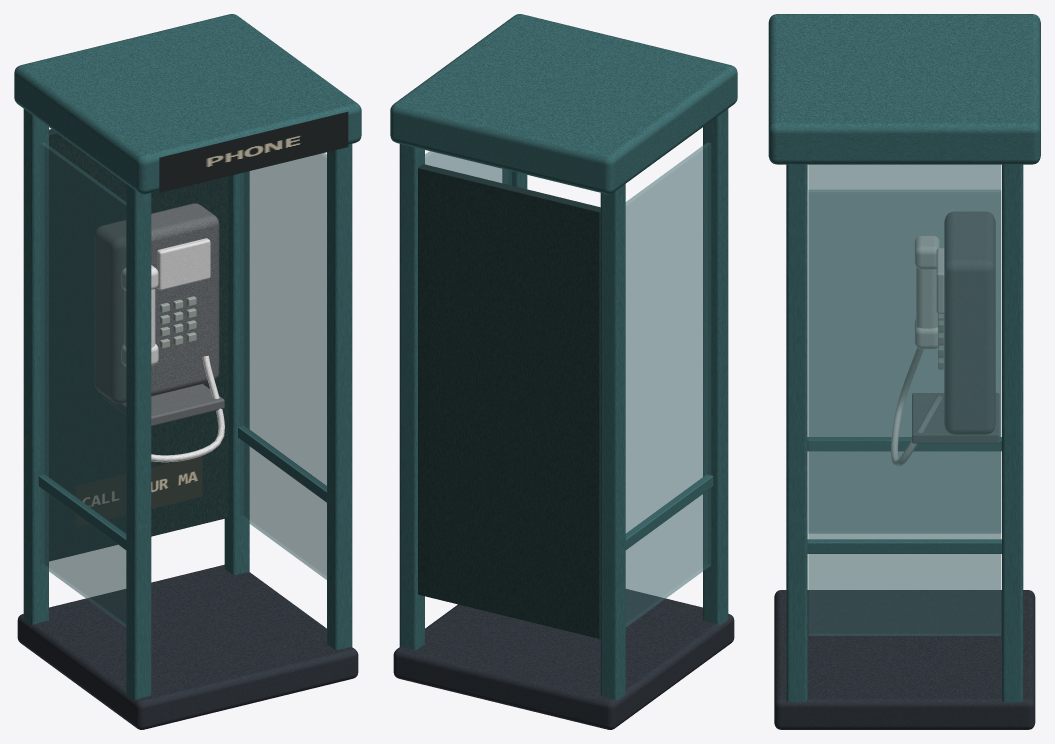
The model's file is phonebooth.glb.
3 renders of one model, left to right at view 1: azimuth 30°, elevation 25°; view 2: azimuth 150°, elevation 25°; view 3: azimuth 270°, elevation 25°, orthographic. The views are drawn at different scales.
Parts seen in each view (by area): view 1: side-glass (×2), frame-post (×4), canopy, back-panel, base, corner-payphone, payphone, display, shelf; view 2: back-panel, canopy, side-glass (×2), frame-post (×3), base, corner-payphone; view 3: side-glass (×2), canopy, base, frame-post (×2), payphone, corner-payphone, shelf, receiver, display.
Part boxes in pixels (x1=…): side-glass (×2): x1=40, y1=142, x2=326, y2=627; frame-post (×4): x1=23, y1=109, x2=352, y2=700; canopy: x1=14, y1=14, x2=361, y2=194; back-panel: x1=49, y1=129, x2=228, y2=561; base: x1=17, y1=564, x2=358, y2=729; corner-payphone: x1=38, y1=111, x2=348, y2=549; payphone: x1=94, y1=203, x2=219, y2=403; display: x1=157, y1=238, x2=210, y2=290; shelf: x1=102, y1=384, x2=224, y2=426; back-panel: x1=418, y1=164, x2=600, y2=638; canopy: x1=390, y1=14, x2=737, y2=194; side-glass (×2): x1=425, y1=142, x2=711, y2=627; frame-post (×3): x1=399, y1=109, x2=728, y2=700; base: x1=393, y1=589, x2=734, y2=729; corner-payphone: x1=625, y1=474, x2=713, y2=549; side-glass (×2): x1=808, y1=164, x2=1001, y2=635; canopy: x1=768, y1=14, x2=1040, y2=164; base: x1=774, y1=590, x2=1035, y2=729; frame-post (×2): x1=786, y1=164, x2=1023, y2=702; payphone: x1=944, y1=211, x2=995, y2=434; corner-payphone: x1=807, y1=235, x2=1001, y2=553; shelf: x1=912, y1=393, x2=999, y2=443; receiver: x1=916, y1=267, x2=938, y2=328; display: x1=936, y1=248, x2=944, y2=313.
Size of the model in its own units: 0.96 by 2.36 by 0.969.
Materials: 10 (8 with a texture image).
